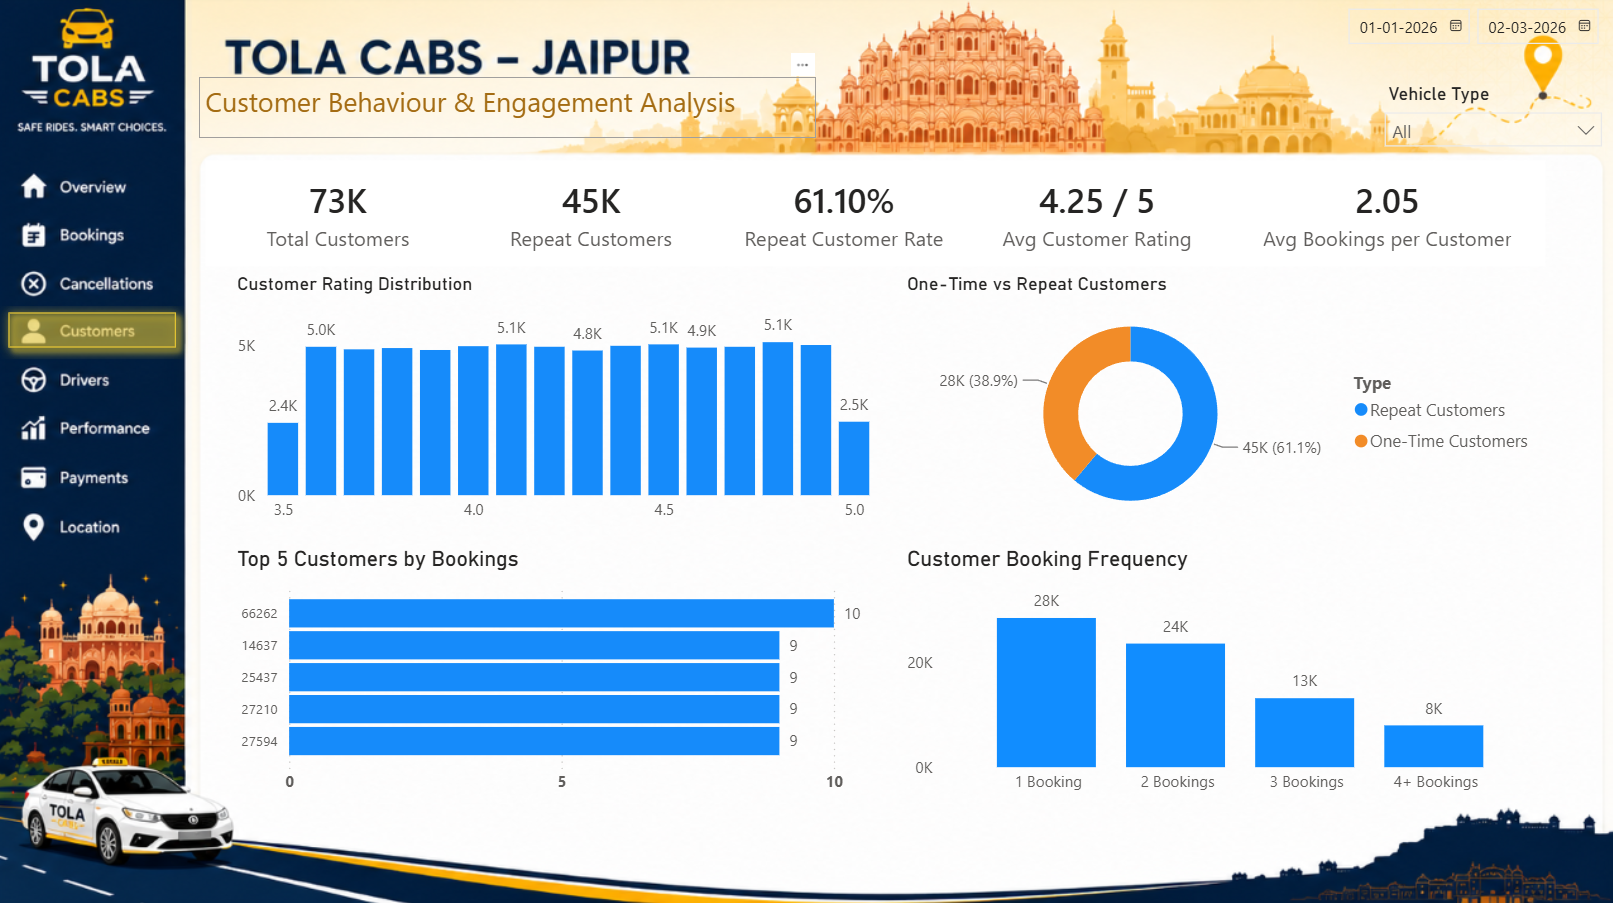

This screenshot's page, from the dashboard's own definition file:
{"tool":"powerbi","page":{"name":"04_Customers","canvas":[1280,720],"ordinal":3},"visuals":[{"type":"shape","box":[0,241.4,150.6,45.9],"z":0},{"type":"actionButton","box":[0,401.1,150.6,42.9],"z":1000},{"type":"actionButton","box":[1.2,365.9,151,39.5],"z":2000},{"type":"actionButton","box":[1.2,326.4,149.8,39.5],"z":3000},{"type":"actionButton","box":[0,286.9,149.8,39.5],"z":4000},{"type":"actionButton","box":[2.3,126.6,149.8,39.5],"z":5000},{"type":"actionButton","box":[0,170.7,149.8,39.5],"z":6000},{"type":"actionButton","box":[0,210.2,149.8,39.5],"z":7000},{"type":"slicer","fields":{"Values":["tola bookings.Vehicle_Type"]},"box":[1088,64,192,64],"z":8000},{"type":"slicer","fields":{"Values":["Calendar.Date"]},"box":[1056,0,219.5,69.7],"z":9000},{"type":"cardVisual","fields":{"Data":["_Measures.Total Customers"]},"box":[160,125,220,94],"z":10000},{"type":"cardVisual","fields":{"Data":["_Measures.Repeat Customer"]},"box":[360,125,220,94],"z":11000},{"type":"cardVisual","fields":{"Data":["_Measures.Repeat Customer Rate"]},"box":[560,125,220,94],"z":12000},{"type":"cardVisual","fields":{"Data":["_Measures.Avg Customer Rating Display"]},"box":[760,125,220,94],"z":13000},{"type":"cardVisual","fields":{"Data":["_Measures.Avg Bookings per Customer"]},"box":[970,125,260,94],"z":14000},{"type":"clusteredColumnChart","title":"Customer Rating Distribution","fields":{"Category":["tola bookings.Customer_Rating"],"Y":["_Measures.Total Bookings"]},"box":[185,220,510,205],"z":15000},{"type":"donutChart","title":"One-Time vs Repeat Customers","fields":{"Category":["Customer Type.Type"],"Y":["Customer Type.Customers by Type"]},"box":[715,220,510,205],"z":16000},{"type":"barChart","title":"Top 5 Customers by Bookings","fields":{"Category":["tola bookings.Customer_ID"],"Y":["_Measures.Total Bookings"]},"box":[185,435,510,205],"z":17000},{"type":"clusteredColumnChart","title":"Customer Booking Frequency","fields":{"Category":["Booking Frequency Groups.Booking Group"],"Y":["_Measures.Customers by Booking Frequency"]},"box":[715,435,510,205],"z":18000},{"type":"textbox","box":[160,64,488,48],"z":18001}]}

Visuals, with their boxes on the page's 1280x720 design canvas (x1, y1, x2, y2). These are canvas units, not pixel positions in the 1613x903 screenshot, which may show the page scaled, cropped or inside an application window:
shape: 0 241 151 287
actionButton: 0 401 151 444
actionButton: 1 366 152 405
actionButton: 1 326 151 366
actionButton: 0 287 150 326
actionButton: 2 127 152 166
actionButton: 0 171 150 210
actionButton: 0 210 150 250
slicer - tola bookings.Vehicle_Type: 1088 64 1280 128
slicer - Calendar.Date: 1056 0 1276 70
cardVisual - _Measures.Total Customers: 160 125 380 219
cardVisual - _Measures.Repeat Customer: 360 125 580 219
cardVisual - _Measures.Repeat Customer Rate: 560 125 780 219
cardVisual - _Measures.Avg Customer Rating Display: 760 125 980 219
cardVisual - _Measures.Avg Bookings per Customer: 970 125 1230 219
"Customer Rating Distribution" clusteredColumnChart: 185 220 695 425
"One-Time vs Repeat Customers" donutChart: 715 220 1225 425
"Top 5 Customers by Bookings" barChart: 185 435 695 640
"Customer Booking Frequency" clusteredColumnChart: 715 435 1225 640
textbox: 160 64 648 112
